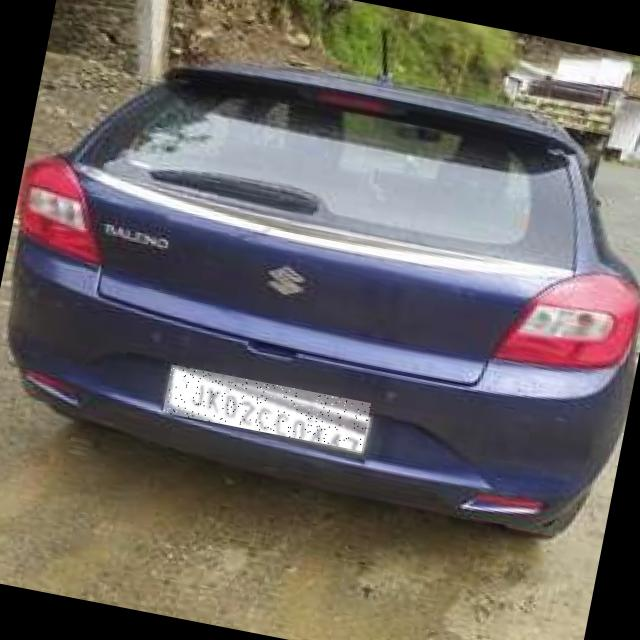Plate: (163, 366, 372, 453)
